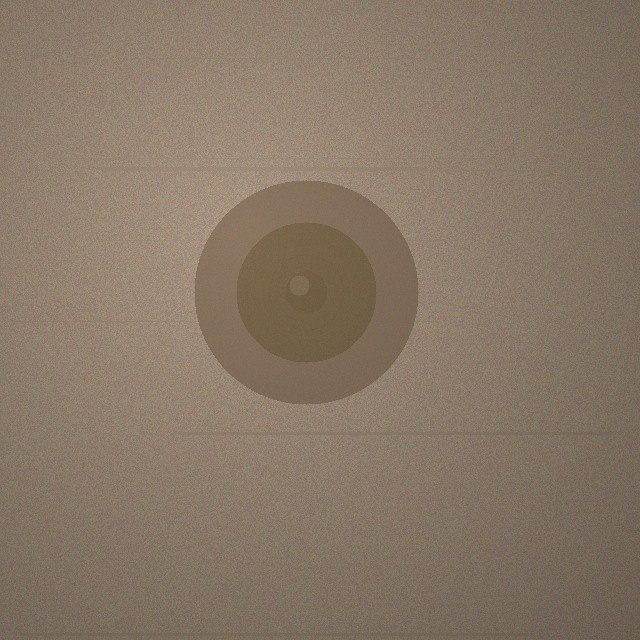good: (194, 180, 418, 404)
